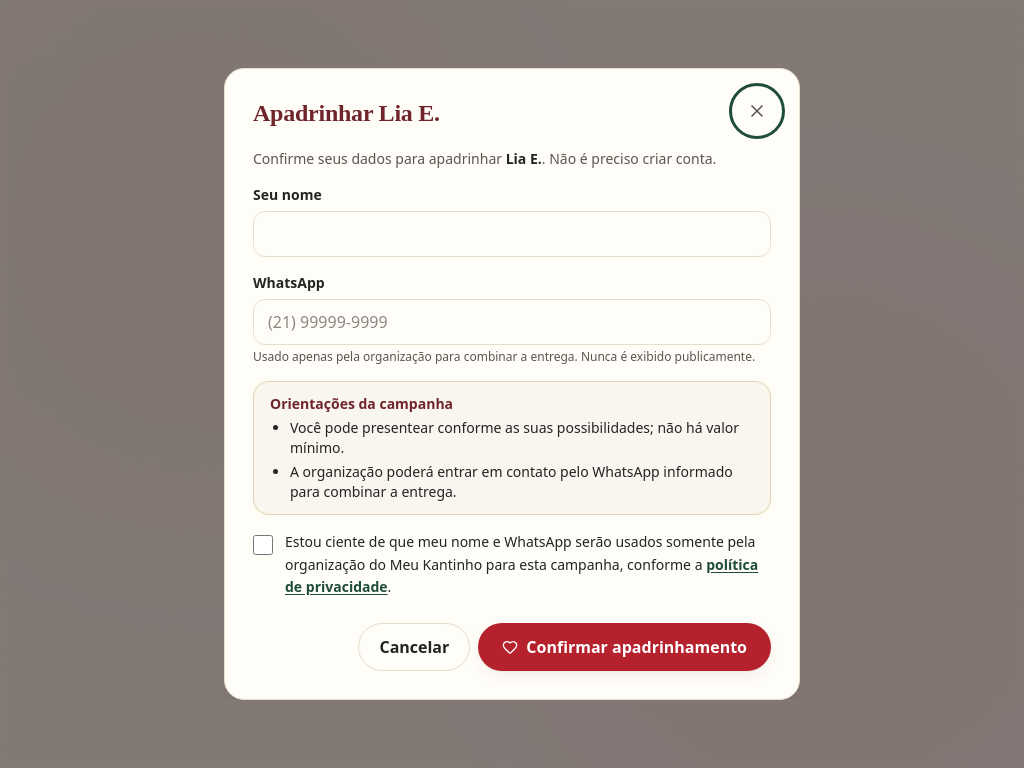
SponsorDialog — animação somente após confirmação do servidor › valida formulário antes de enviar
Click the button with test id "confirm-sponsor": point(625, 647) [478,623,771,671]
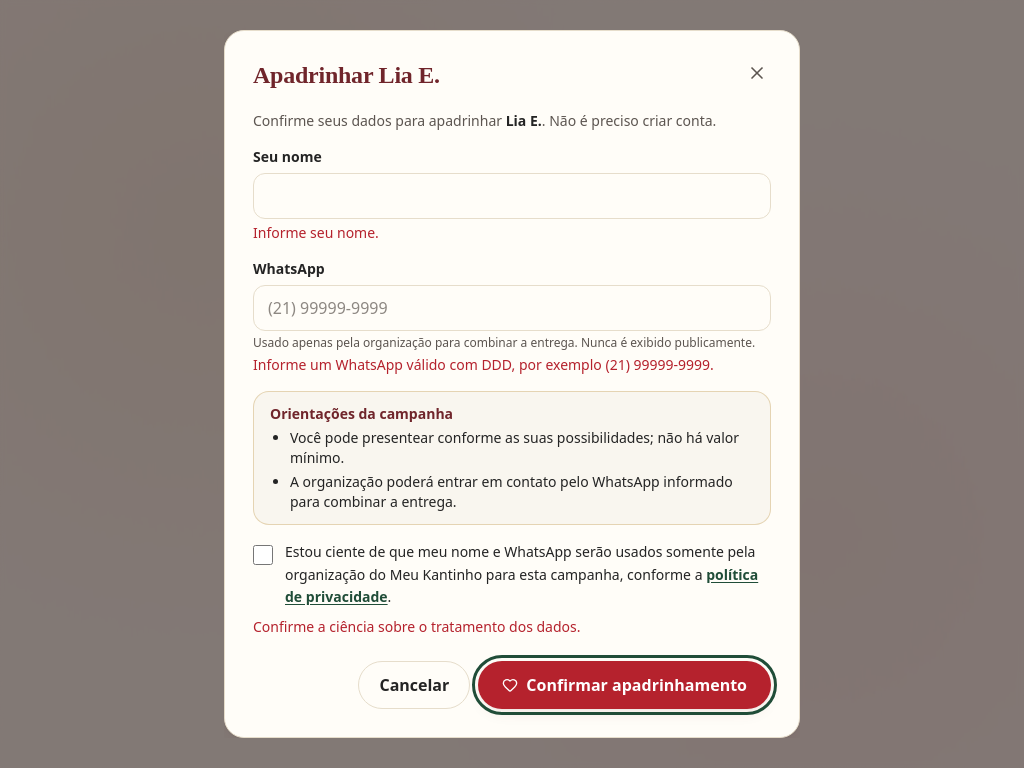
Now the text "Informe seu nome." is shown, box [253,223,379,242]
